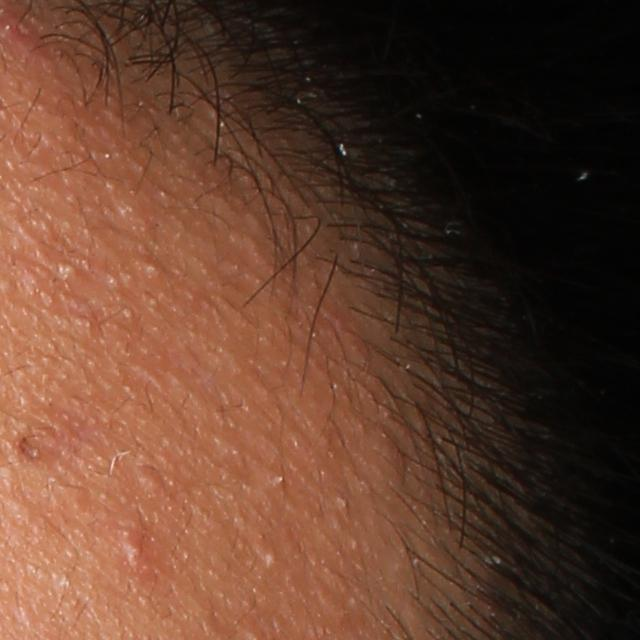comedo: (139, 465, 167, 498), (269, 467, 295, 491), (331, 490, 354, 515), (140, 256, 160, 281), (261, 544, 279, 568), (58, 257, 76, 279)
papule: (118, 534, 149, 567)
